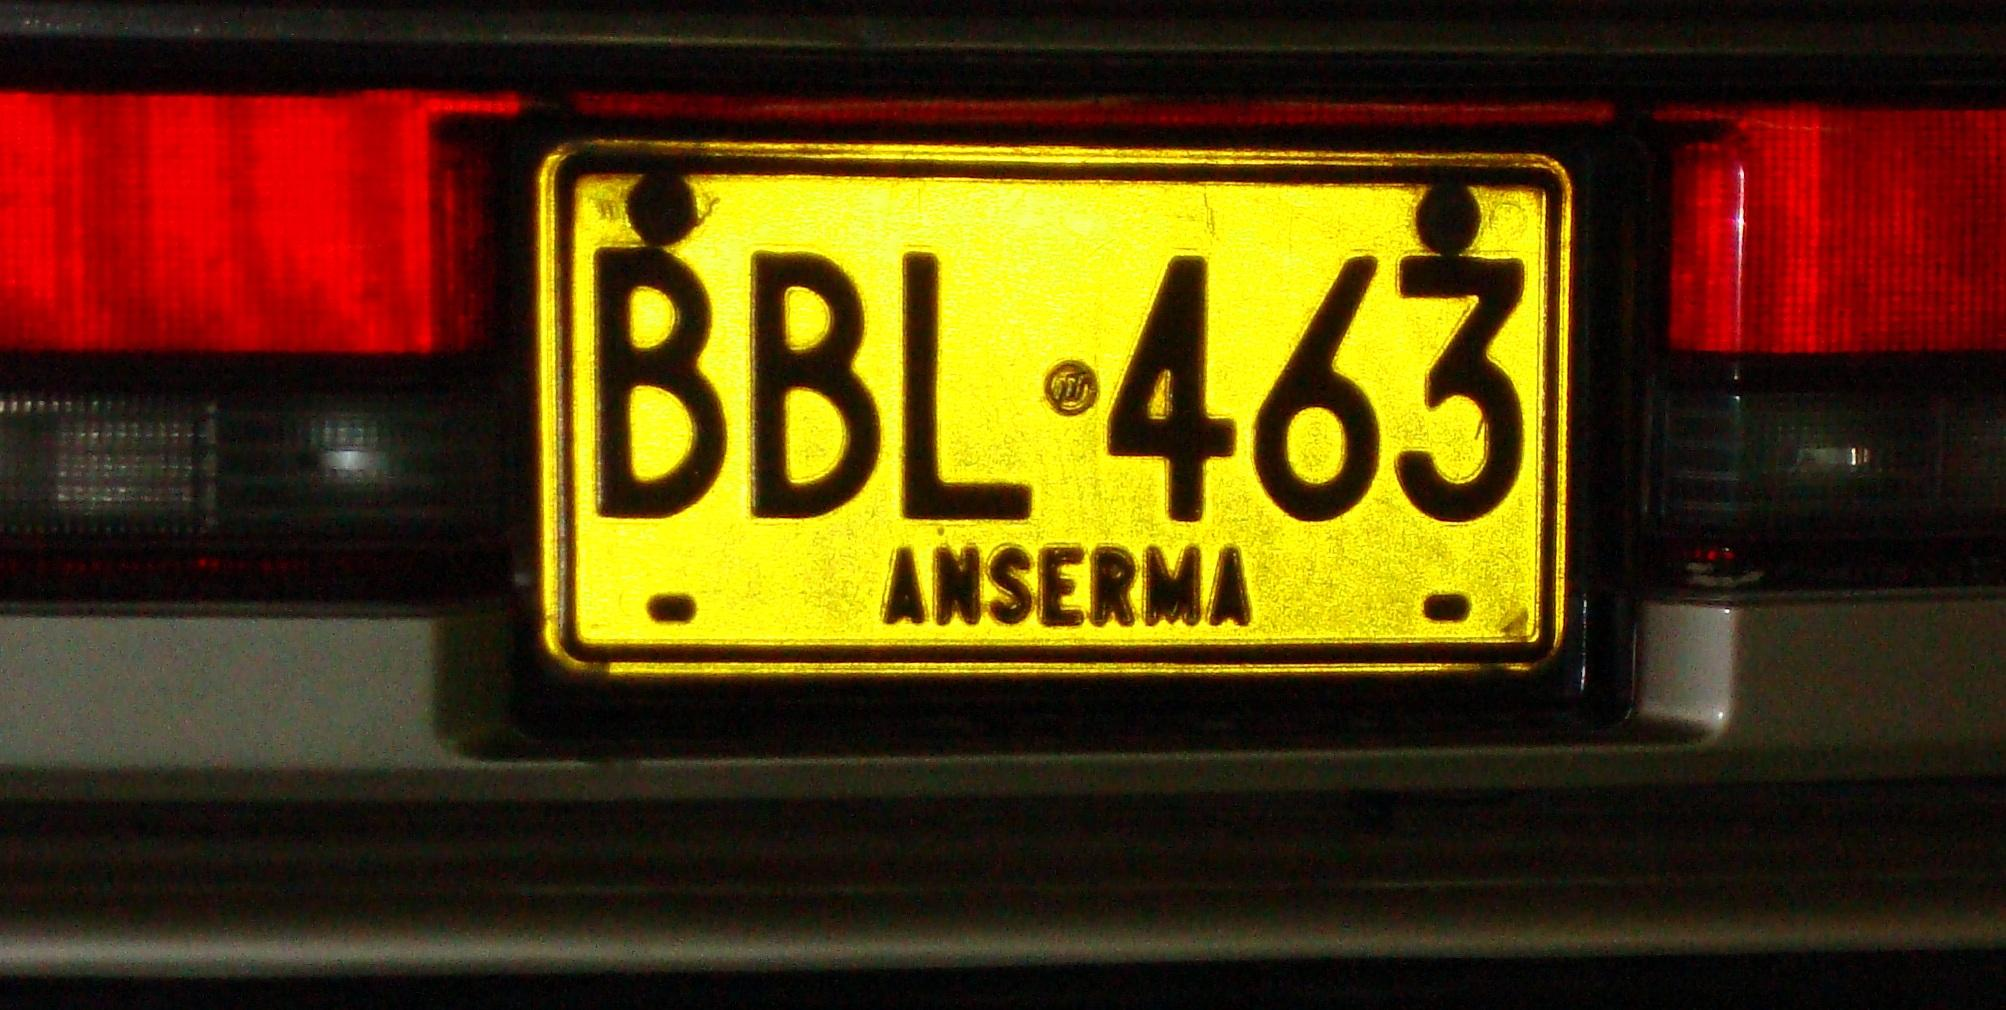placas: (516, 100, 1590, 683)
